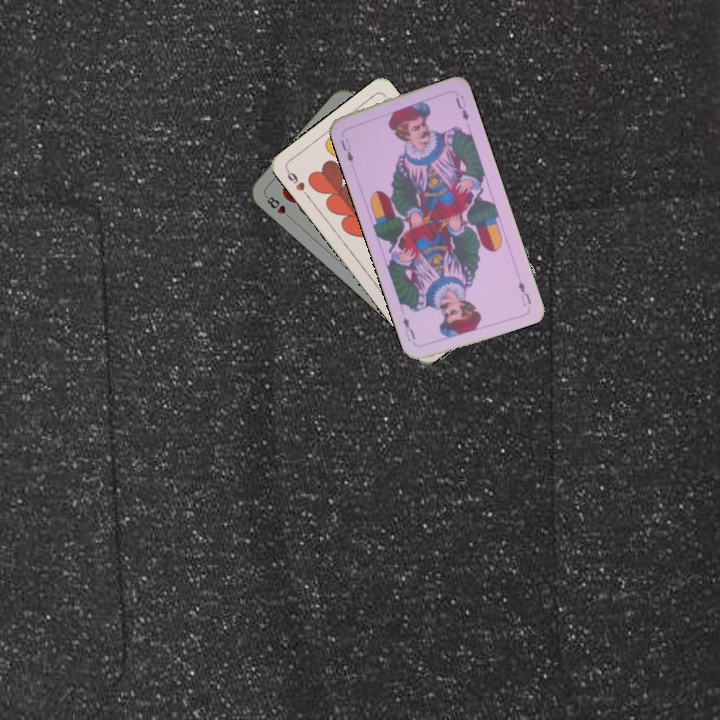EU: (514, 277, 534, 309), (336, 134, 356, 165)
H8: (261, 191, 295, 222)
H9: (283, 166, 312, 200)
